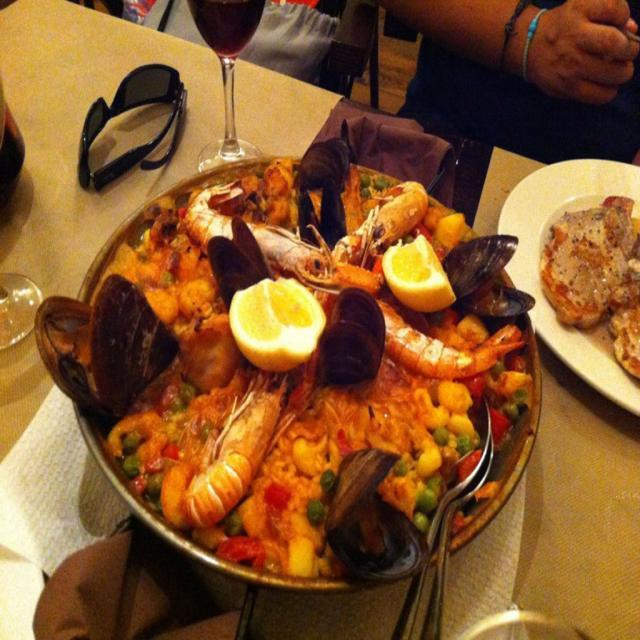Orange: (226, 280, 327, 374), (382, 235, 457, 316)
